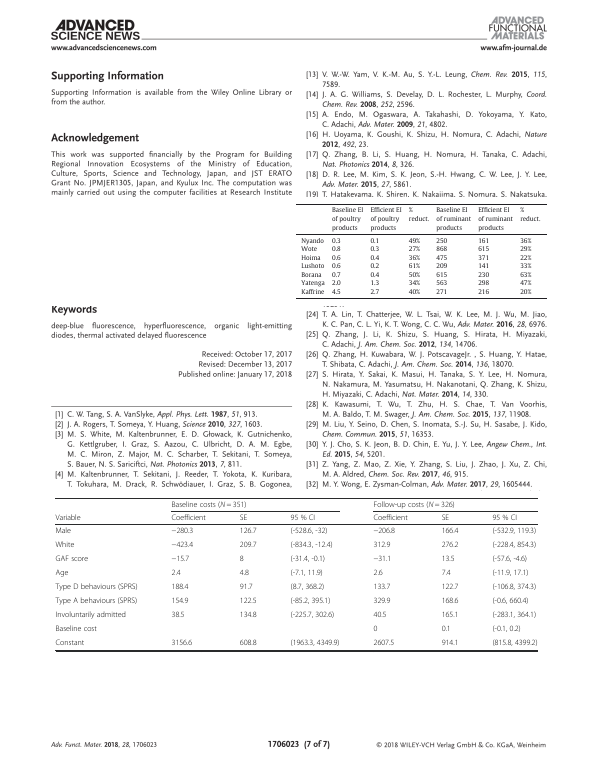borderless: (54, 496, 537, 650), (295, 202, 547, 298)
cell: (435, 207, 472, 232), (477, 207, 514, 232), (54, 582, 138, 592), (54, 596, 138, 606), (331, 207, 364, 232), (370, 207, 403, 232), (372, 500, 456, 509), (54, 610, 127, 620), (171, 500, 247, 509), (290, 638, 340, 648), (491, 638, 538, 648), (491, 526, 537, 536), (491, 540, 537, 550), (491, 582, 537, 592), (491, 610, 537, 620), (290, 610, 335, 620), (54, 624, 98, 634), (290, 540, 333, 550), (290, 596, 331, 606), (290, 526, 328, 536), (491, 568, 529, 578), (491, 596, 529, 606), (372, 513, 409, 523), (491, 554, 528, 564), (519, 207, 542, 223), (171, 513, 207, 523), (290, 554, 326, 564), (408, 207, 430, 223), (54, 554, 89, 564), (290, 582, 325, 592), (290, 568, 324, 578), (491, 624, 522, 634), (54, 638, 85, 648), (54, 513, 81, 523), (491, 513, 518, 523), (290, 513, 316, 523), (372, 526, 396, 536), (300, 288, 326, 297), (171, 526, 194, 536), (171, 540, 194, 550), (372, 638, 395, 648), (300, 262, 325, 271), (171, 638, 193, 648), (54, 540, 75, 550), (300, 280, 326, 288), (372, 554, 392, 564), (300, 237, 325, 245), (372, 540, 391, 550), (171, 554, 190, 564), (372, 582, 391, 592), (372, 596, 391, 606), (300, 271, 323, 279), (54, 526, 72, 536), (239, 526, 257, 536), (441, 526, 459, 536), (239, 540, 257, 550), (441, 540, 459, 550), (171, 582, 189, 592), (441, 582, 459, 592), (171, 596, 189, 606), (239, 596, 257, 606), (441, 596, 459, 606), (239, 610, 257, 620), (441, 610, 459, 620), (239, 638, 257, 648), (441, 638, 459, 648), (300, 254, 322, 262), (300, 245, 318, 254), (54, 568, 69, 578), (239, 582, 254, 592), (372, 610, 387, 620), (441, 554, 455, 564), (171, 610, 185, 620), (408, 245, 421, 254), (435, 245, 448, 254), (477, 245, 490, 254), (519, 245, 532, 254), (408, 262, 421, 271), (435, 262, 448, 271), (477, 262, 490, 271), (519, 262, 532, 271), (408, 288, 421, 297), (435, 288, 448, 297), (477, 288, 490, 297), (519, 288, 532, 297), (171, 568, 182, 578), (239, 568, 250, 578), (372, 568, 383, 578), (441, 568, 452, 578), (441, 624, 452, 634), (408, 237, 421, 245), (435, 237, 448, 245), (477, 237, 490, 245), (519, 237, 532, 245), (408, 254, 421, 262), (435, 254, 448, 262), (477, 254, 490, 262), (519, 254, 532, 262), (408, 271, 421, 279), (435, 271, 448, 279), (477, 271, 490, 279), (519, 271, 532, 279), (408, 280, 421, 288), (435, 280, 448, 288), (477, 280, 490, 288), (519, 280, 532, 288), (331, 245, 342, 254), (331, 262, 342, 271), (331, 288, 342, 297), (239, 513, 248, 523), (441, 513, 450, 523), (370, 245, 380, 254), (370, 262, 380, 271), (370, 288, 380, 297), (331, 237, 342, 245), (331, 254, 342, 262), (331, 271, 342, 279), (331, 280, 342, 288), (370, 237, 380, 245), (370, 254, 380, 262), (370, 271, 380, 279), (370, 280, 380, 288), (239, 554, 245, 564), (372, 624, 378, 634)
